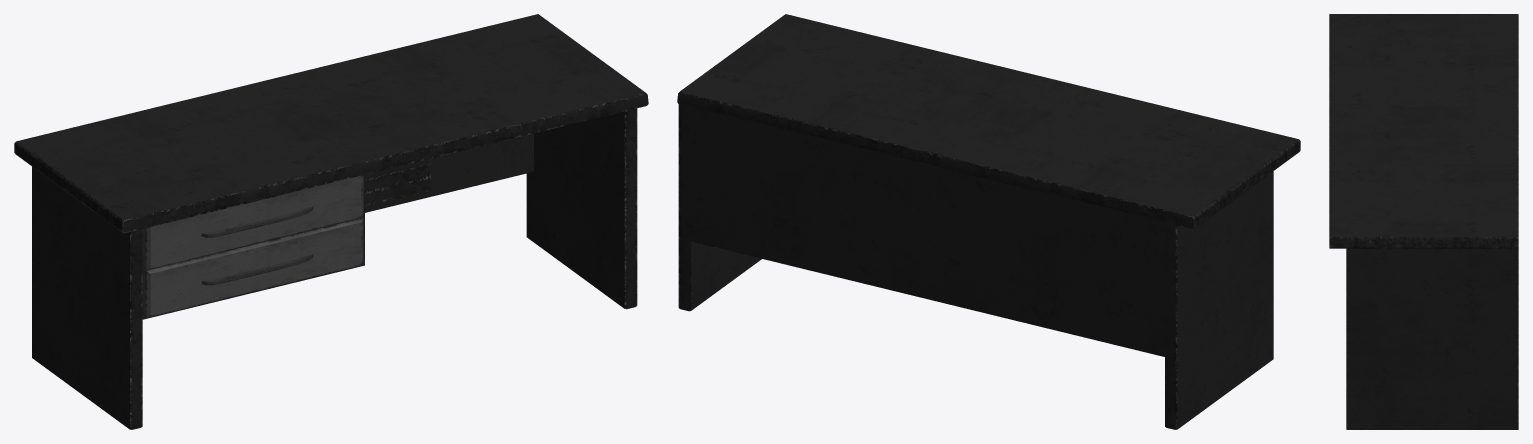
Rendered from Meja 4.fbx.
3 views of the same model, side by side, from view 1: azimuth 30°, elevation 25°; view 2: azimuth 150°, elevation 25°; view 3: azimuth 270°, elevation 25° (orthographic). The views are drawn at different scales.
Visible parts, largest first — view 1: Meja 4_LOD0; view 2: Meja 4_LOD0; view 3: Meja 4_LOD0.
Part boxes in pixels (x1,y1,x2,y2): Meja 4_LOD0: [14, 14, 648, 429]; Meja 4_LOD0: [677, 14, 1300, 429]; Meja 4_LOD0: [1329, 14, 1518, 429].
Size of what is drawn, in the model's own units: 155 by 62.37 by 55.47.
